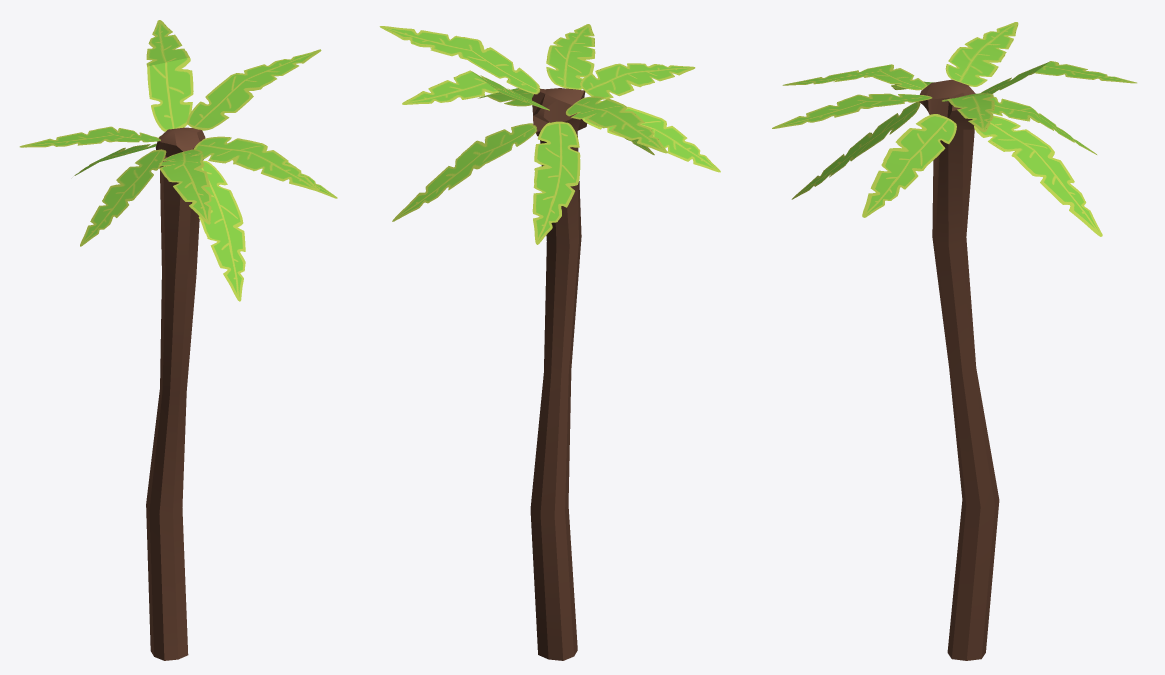
Rendered from SM_PalmTree.fbx.
The picture shows the model from 3 angles, left to right: view 1: azimuth 30°, elevation 25°; view 2: azimuth 150°, elevation 25°; view 3: azimuth 270°, elevation 25°; orthographic projection. The views are drawn at different scales.
Visible parts, largest first — view 1: SM_PalmTree; view 2: SM_PalmTree; view 3: SM_PalmTree.
Part boxes in pixels (<box>): SM_PalmTree: <box>19,20,337,660</box>; SM_PalmTree: <box>379,24,720,660</box>; SM_PalmTree: <box>772,22,1136,660</box>.
Size of the model in its own units: 6.31 by 11.14 by 6.45.
